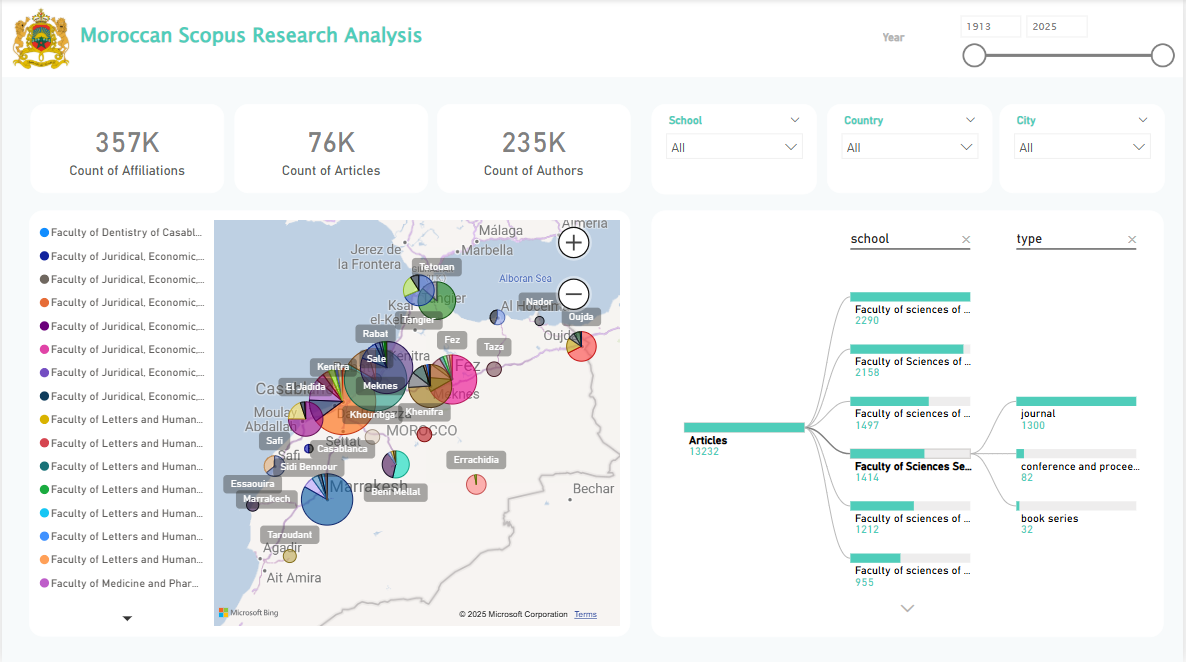

The page's visual inventory and layout, read from the dashboard file:
{"tool":"powerbi","page":{"name":"Dashboard1","canvas":[1280,720],"ordinal":0},"visuals":[{"type":"textbox","box":[0,0,1280.5,84.5],"z":0},{"type":"image","box":[0,0,84.5,84.5],"z":1000},{"type":"textbox","box":[79.7,17.9,406.6,55.3],"z":2000},{"type":"textbox","box":[949.9,26,58.6,34.2],"z":3000},{"type":"slicer","fields":{"Values":["Metadata.year"]},"box":[1026.3,8.1,253.7,76.4],"z":4000},{"type":"card","fields":{"Values":["Metrics.CountAffiliations"]},"box":[30.2,113.4,210,96.4],"z":5000},{"type":"card","fields":{"Values":["Metrics.CountArticles"]},"box":[251.3,113.4,210,96.4],"z":6000},{"type":"card","fields":{"Values":["Metrics.countAuthors"]},"box":[472.4,113.4,210,96.4],"z":7000},{"type":"decompositionTreeVisual","fields":{"Analyze":["CountNonNull(Metadata.doc_id)"],"ExplainBy":["Affiliation.school","Journal.type"]},"box":[704.9,228.7,555.6,463],"z":8000},{"type":"slicer","fields":{"Values":["Affiliation.city"]},"box":[1081,113.4,179.5,96.4],"z":9000},{"type":"slicer","fields":{"Values":["Affiliation.country"]},"box":[893.9,113.4,179.5,96.4],"z":10000},{"type":"slicer","fields":{"Values":["Affiliation.school"]},"box":[704.9,113.4,179.5,98.3],"z":11000},{"type":"map","fields":{"Category":["Affiliation.city"],"Series":["Affiliation.school"],"Size":["CountNonNull(Metadata.doc_id)"]},"box":[29.3,229.3,652.2,461.9],"z":12000}]}

Visuals, with their boxes in screenshot pixels (x1, y1, x2, y2), scaled from the page's 1280x720 canvas onto the 1186x662 screenshot:
textbox: 0 0 1185 78
image: 0 0 78 78
textbox: 74 16 451 67
textbox: 880 24 934 55
slicer - Metadata.year: 951 7 1185 78
card - Metrics.CountAffiliations: 28 104 223 193
card - Metrics.CountArticles: 233 104 427 193
card - Metrics.countAuthors: 438 104 632 193
decompositionTreeVisual - CountNonNull(Metadata.doc_id) x Affiliation.school: 653 210 1168 636
slicer - Affiliation.city: 1002 104 1168 193
slicer - Affiliation.country: 828 104 995 193
slicer - Affiliation.school: 653 104 819 195
map - Affiliation.city x Affiliation.school: 27 211 631 636
